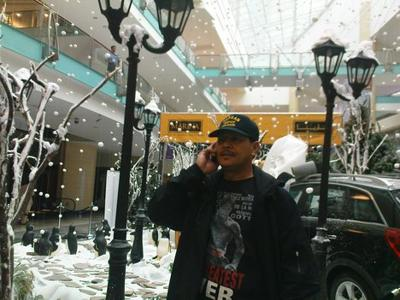person: (147, 115, 307, 300)
